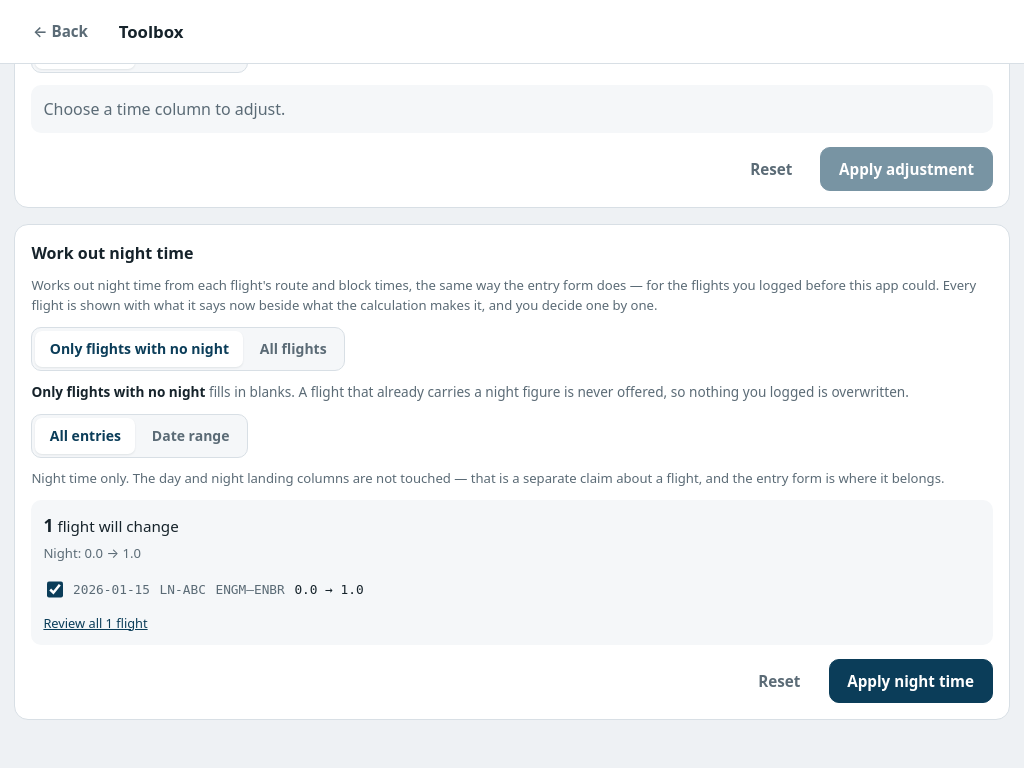
Test: before it writes › writes only once confirmed, and reports how many changed
The width and height of the screenshot is (1024, 768).
(page scrolled)
Click the button "Apply night time" at {"x": 911, "y": 681}, box [829,659,993,703]
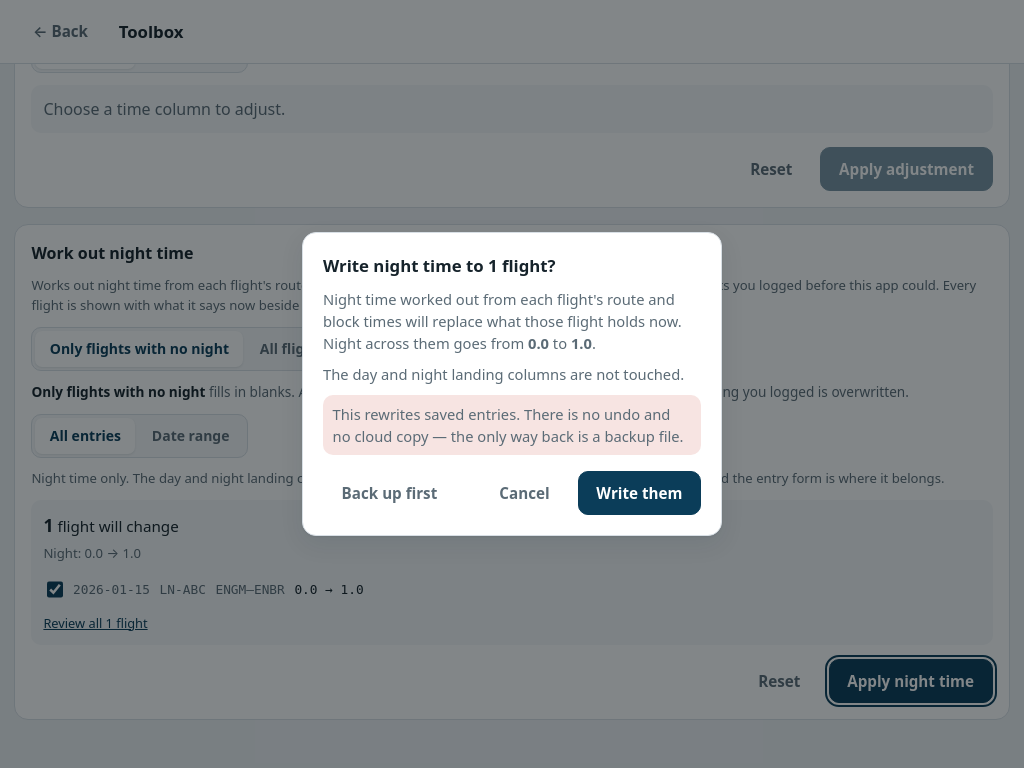
Click the button "Write them" at {"x": 639, "y": 493}, box [578,471,701,515]
(page scrolled)
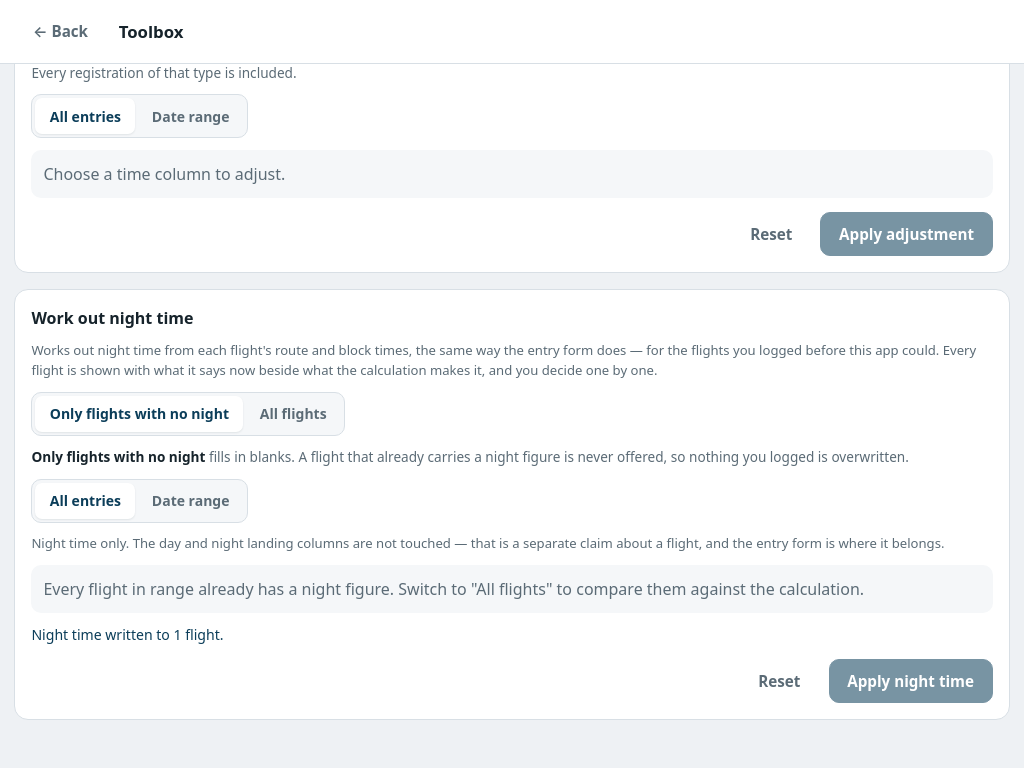
Expected: the text "Night time written to 1 flight." is shown, [31,625,224,644]
